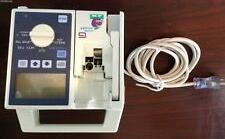plumxl1: (8, 5, 125, 133)
